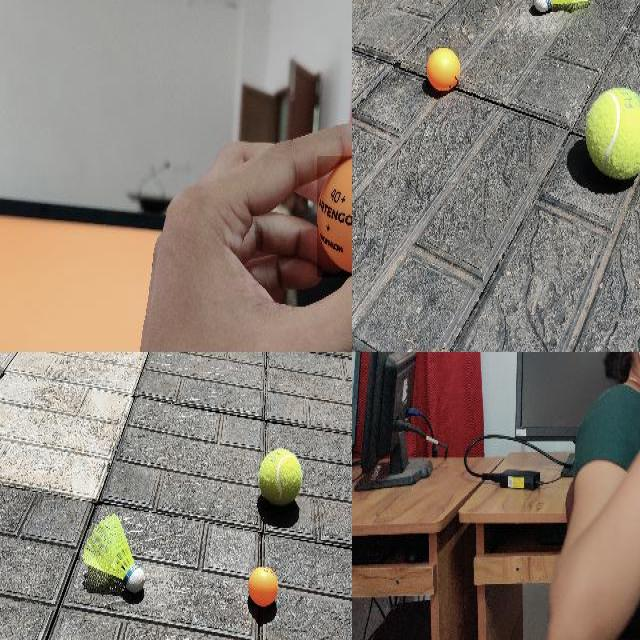ping-pong-ball: (317, 156, 351, 280), (426, 47, 460, 89), (248, 565, 278, 608)
